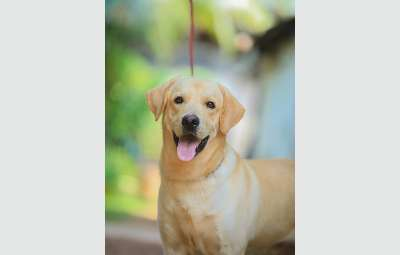Dog: (139, 67, 292, 255)
